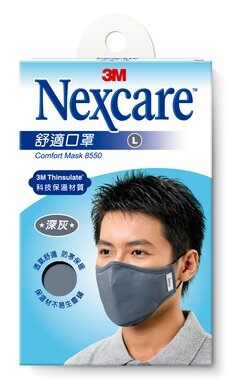Mask: (91, 203, 185, 330)
